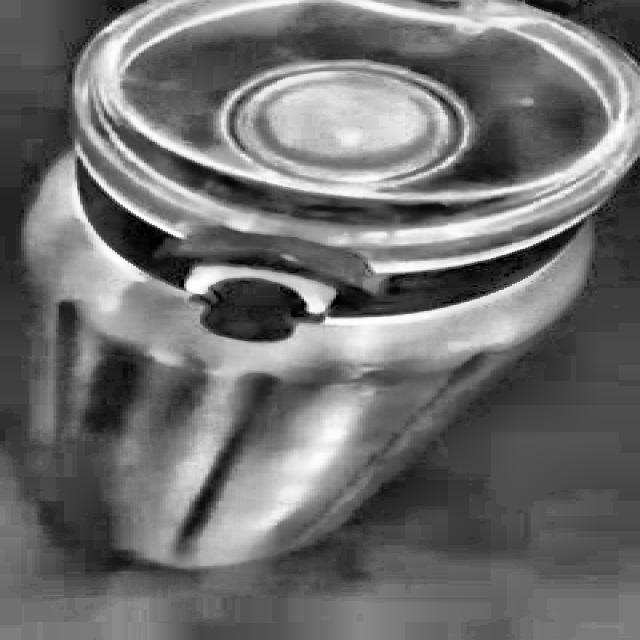bottle: (19, 0, 640, 572)
